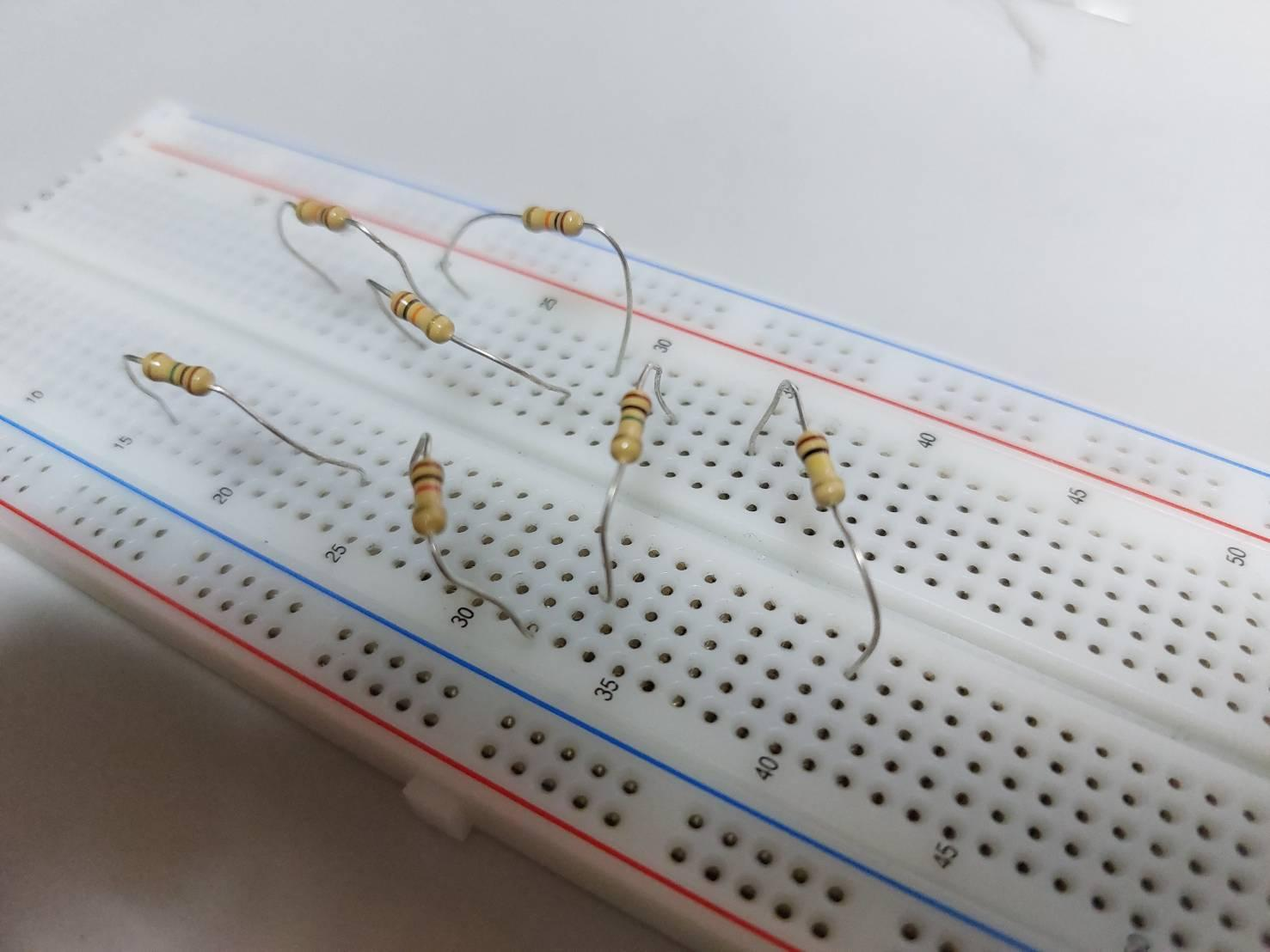resistor: (795, 429, 849, 511), (390, 287, 455, 343), (145, 348, 217, 398), (613, 390, 655, 463), (411, 457, 447, 538), (293, 197, 351, 233), (522, 204, 586, 236)
